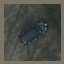car: (18, 20, 48, 46)
